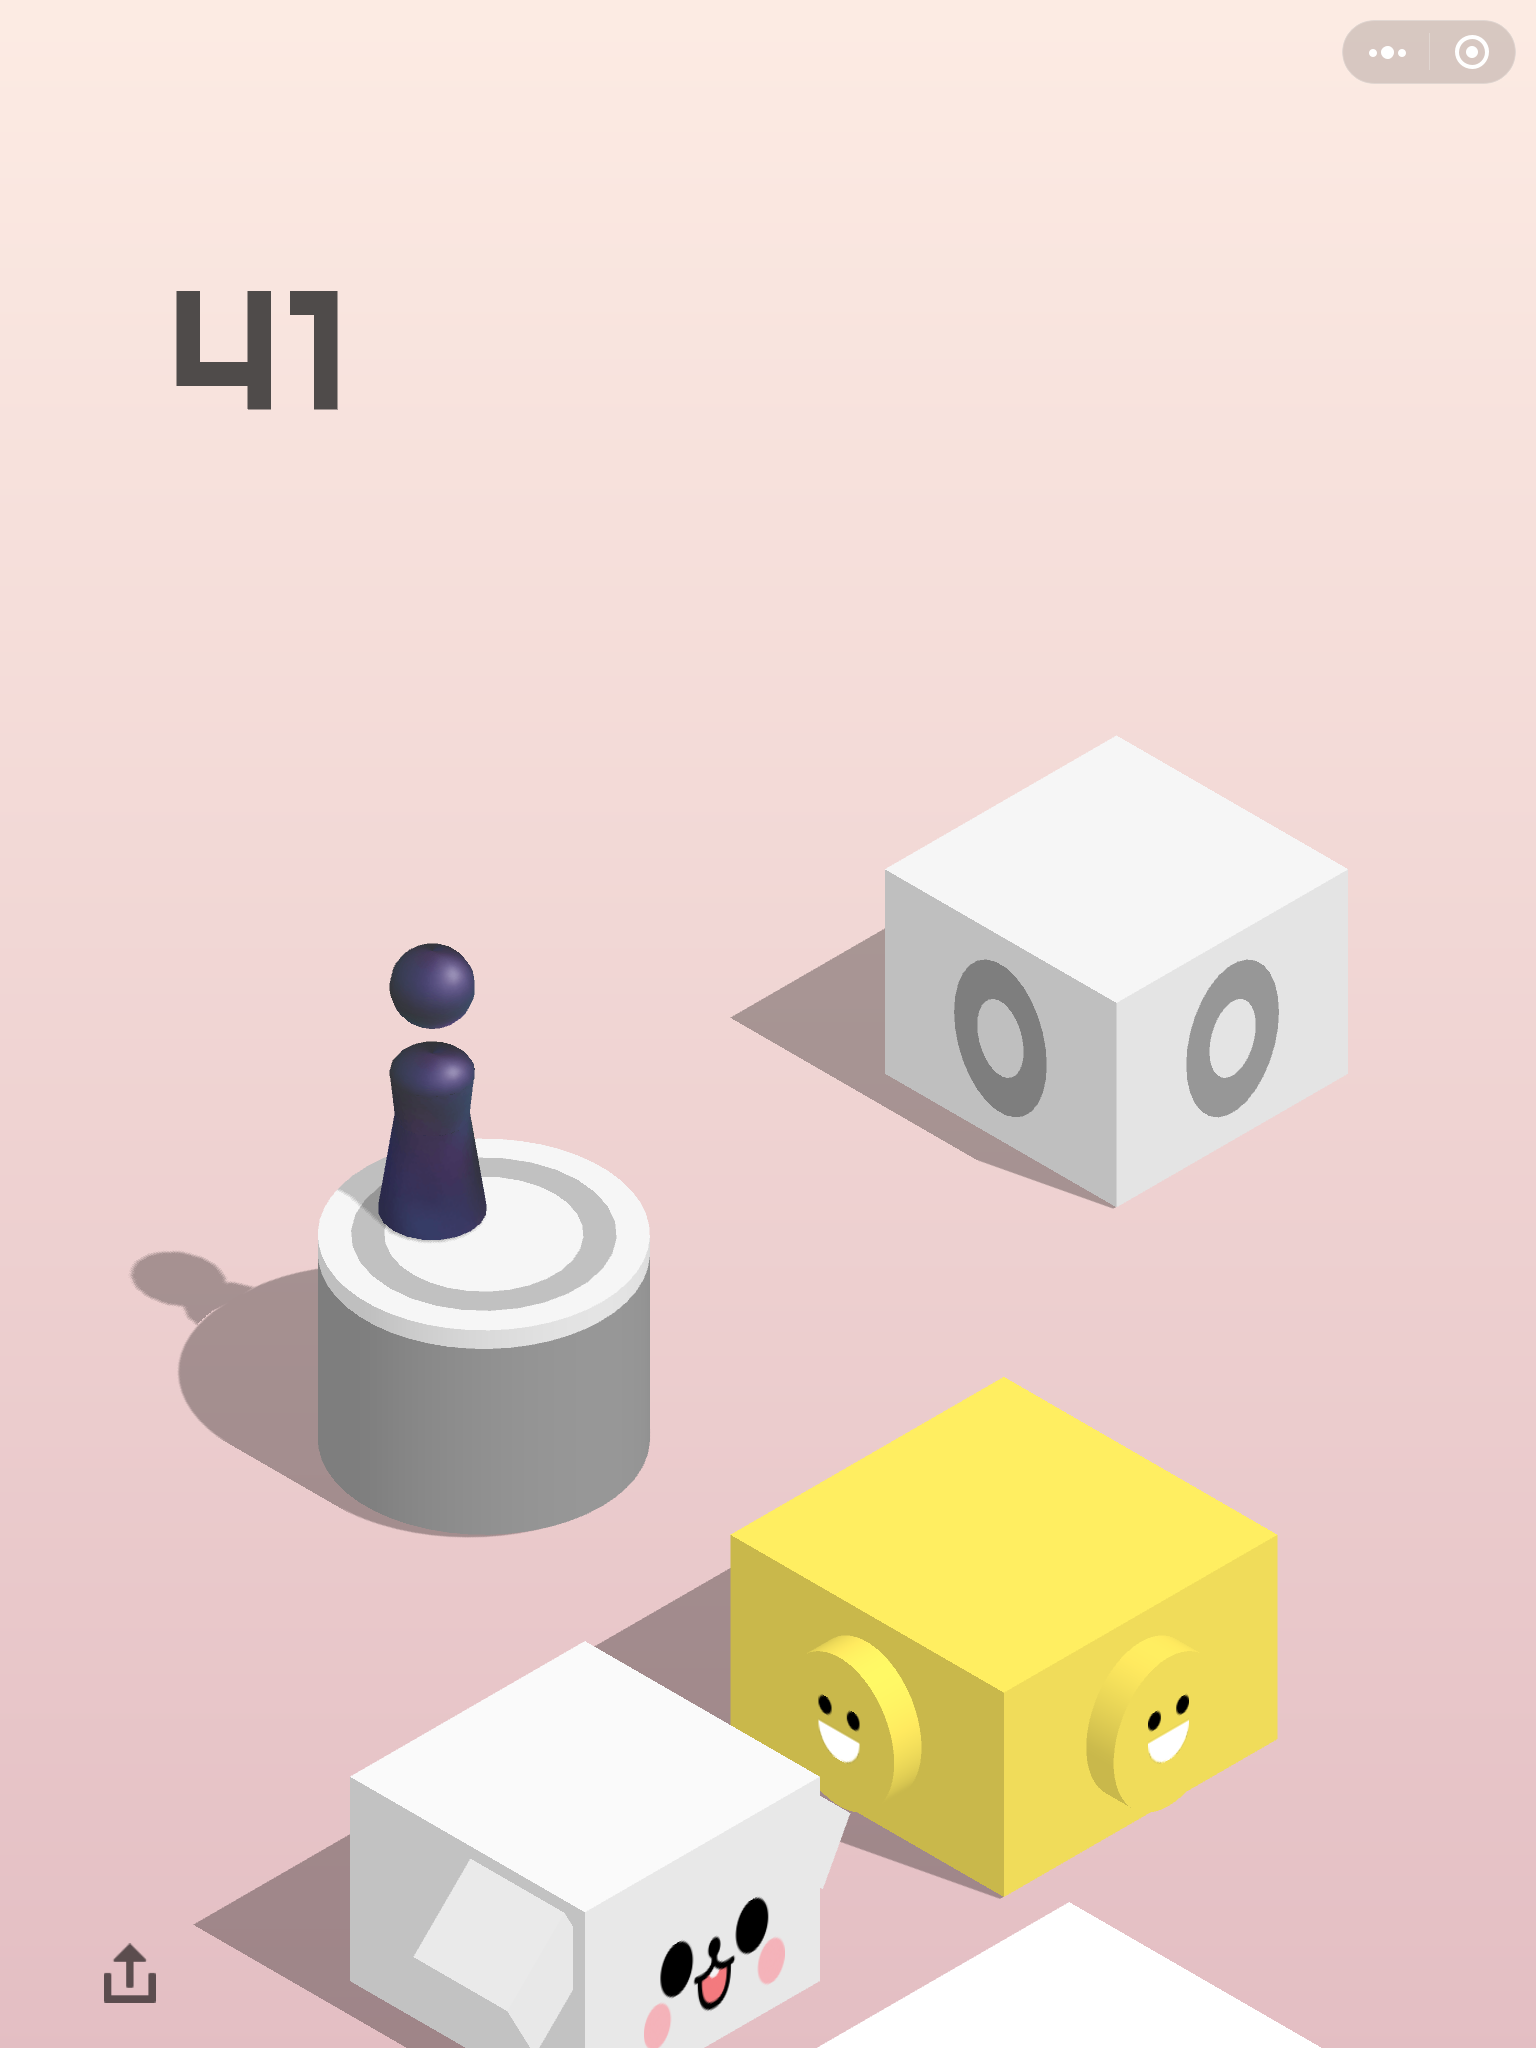c: (311, 1130, 655, 1540)
f: (724, 1371, 1291, 1901), (878, 731, 1357, 1211), (344, 1638, 854, 2048), (799, 1900, 1342, 2048)
r: (374, 939, 494, 1248)
